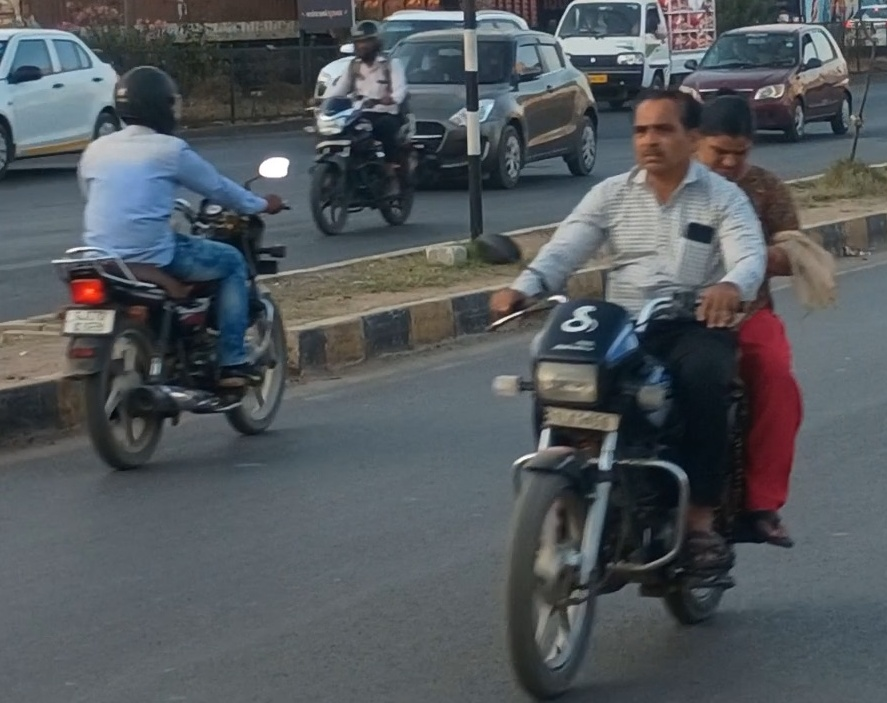BikeWithRider: (473, 78, 845, 702), (42, 57, 302, 477), (297, 13, 427, 240)
Helmet: (105, 57, 190, 139)
NoHelmet: (620, 82, 707, 181), (682, 87, 766, 186), (344, 15, 387, 62)
